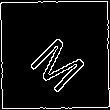M_NE: (21, 21, 89, 89)
